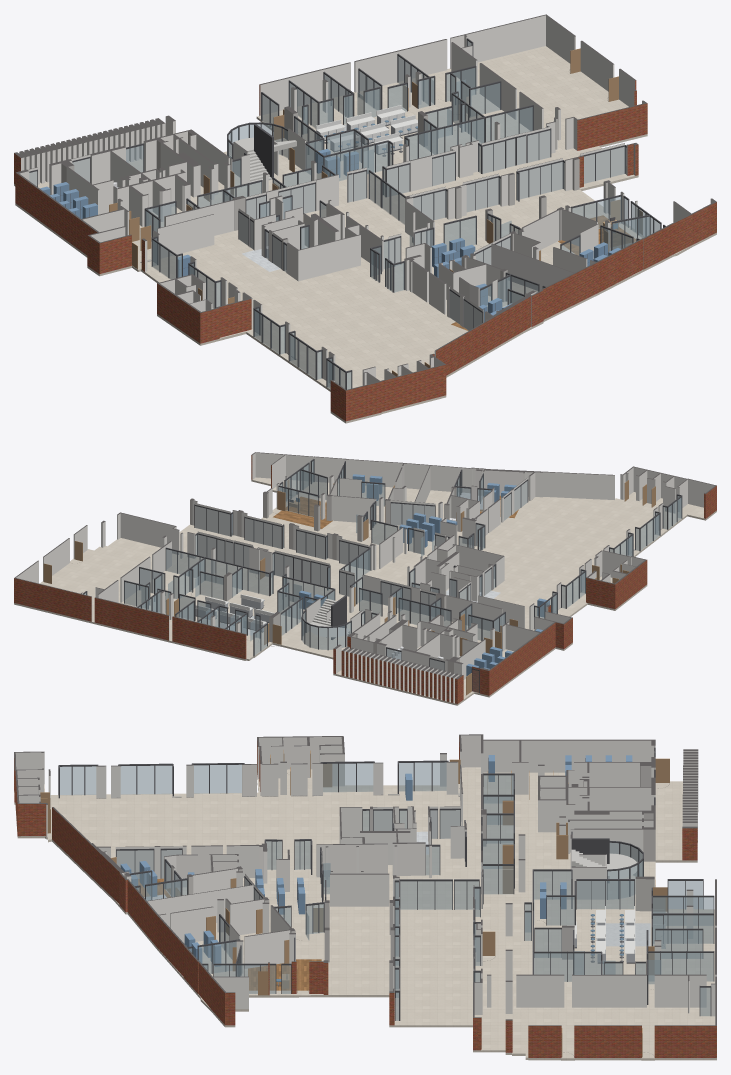
The model's file is campus.glb.
3 renders of one model, top to bottom at view 1: azimuth 30°, elevation 25°; view 2: azimuth 150°, elevation 25°; view 3: azimuth 270°, elevation 25°, orthographic. The views are drawn at different scales.
Parts seen in each view (by area): view 1: P0_Walls, P0_Floor_Slab, P0_Glass, P0_Glass_Mullions, P0_Glass_Frames_Top, P0_Doors, P0_Columns, P0_Furniture_2_3, P0_Stair_A_East, P0_Floor_Zones, P0_Furniture_1_3, P0_Furniture_3_3 (+1 smaller); view 2: P0_Walls, P0_Floor_Slab, P0_Glass, P0_Glass_Mullions, P0_Glass_Frames_Top, P0_Doors, P0_Columns, P0_Floor_Zones, P0_Furniture_2_3, P0_Stair_A_East, P0_Furniture_2_1, P0_Furniture_1_3 (+3 smaller); view 3: P0_Floor_Slab, P0_Walls, P0_Glass, P0_Glass_Mullions, P0_Doors, P0_Glass_Frames_Top, P0_Columns, P0_Floor_Zones, P0_Stair_A_East, P0_Furniture_2_3, P0_Furniture_2_1, P0_Furniture_3_1 (+2 smaller).
Boxes of the visible parts, x1,y1,x2,y2 form: P0_Walls: [14, 14, 716, 421]; P0_Floor_Slab: [14, 46, 716, 423]; P0_Glass: [29, 40, 663, 389]; P0_Glass_Mullions: [37, 39, 664, 389]; P0_Glass_Frames_Top: [29, 38, 666, 372]; P0_Doors: [109, 48, 642, 376]; P0_Columns: [59, 106, 638, 301]; P0_Furniture_2_3: [315, 112, 403, 177]; P0_Stair_A_East: [229, 124, 296, 184]; P0_Floor_Zones: [117, 124, 636, 330]; P0_Furniture_1_3: [40, 182, 97, 218]; P0_Furniture_3_3: [376, 105, 417, 138]; P0_Walls: [14, 452, 716, 703]; P0_Floor_Slab: [14, 477, 716, 705]; P0_Glass: [84, 461, 681, 692]; P0_Glass_Mullions: [86, 459, 682, 693]; P0_Glass_Frames_Top: [83, 459, 681, 670]; P0_Doors: [43, 479, 655, 695]; P0_Columns: [190, 486, 493, 673]; P0_Floor_Zones: [216, 492, 518, 660]; P0_Furniture_2_3: [220, 590, 326, 632]; P0_Stair_A_East: [310, 595, 350, 639]; P0_Furniture_2_1: [413, 483, 516, 534]; P0_Furniture_1_3: [466, 646, 512, 676]; P0_Floor_Slab: [14, 767, 716, 1060]; P0_Walls: [14, 734, 716, 1057]; P0_Glass: [60, 762, 713, 1020]; P0_Glass_Mullions: [58, 747, 714, 1020]; P0_Doors: [40, 750, 669, 1057]; P0_Glass_Frames_Top: [58, 748, 713, 992]; P0_Columns: [187, 762, 655, 1025]; P0_Floor_Zones: [138, 831, 650, 990]; P0_Stair_A_East: [571, 838, 637, 882]; P0_Furniture_2_3: [540, 882, 635, 948]; P0_Furniture_2_1: [120, 861, 264, 896]; P0_Furniture_3_1: [184, 930, 221, 966].
Size of the model in its own units: 54.72 by 4.04 by 55.67.
21 materials, 5 textured.
